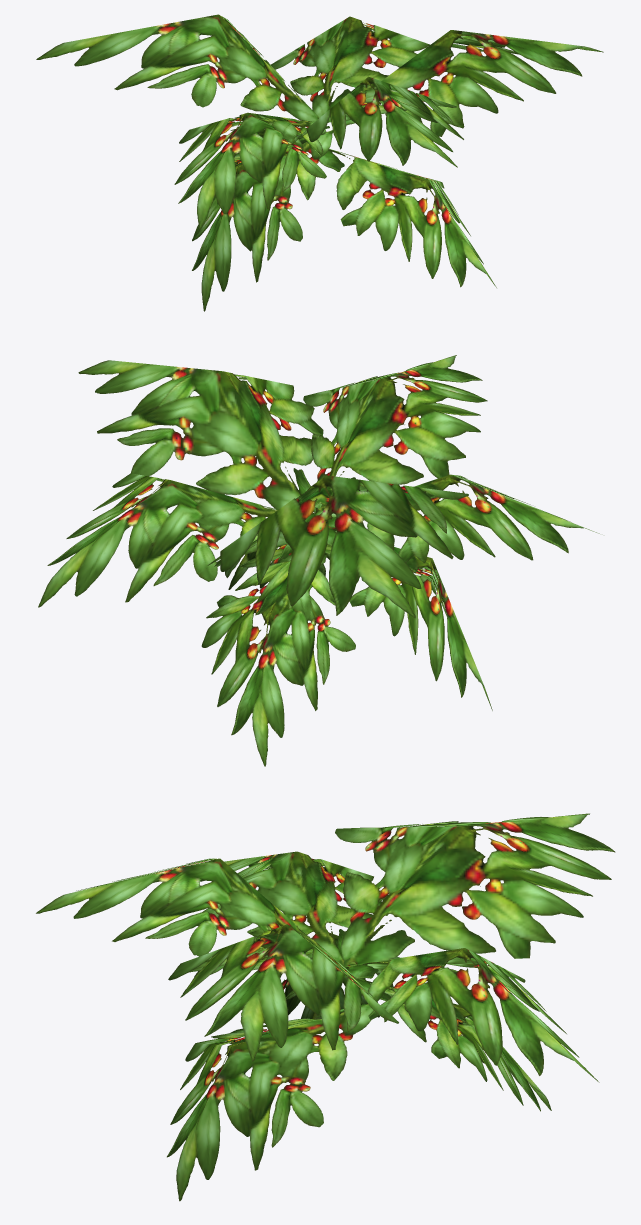
File: wm_灌木大灌木17.fbx
The picture shows the model from 3 angles, top to bottom: view 1: azimuth 30°, elevation 25°; view 2: azimuth 150°, elevation 25°; view 3: azimuth 270°, elevation 25°; orthographic projection. The views are drawn at different scales.
Parts seen in each view (by area): view 1: wm_灌木大灌木17; view 2: wm_灌木大灌木17; view 3: wm_灌木大灌木17.
Boxes of the visible parts, x1,y1,x2,y2 form: wm_灌木大灌木17: (36,14,603,311); wm_灌木大灌木17: (38,355,599,766); wm_灌木大灌木17: (36,813,615,1201).
Bounding box in the file's own units: 245 × 122 × 232.
